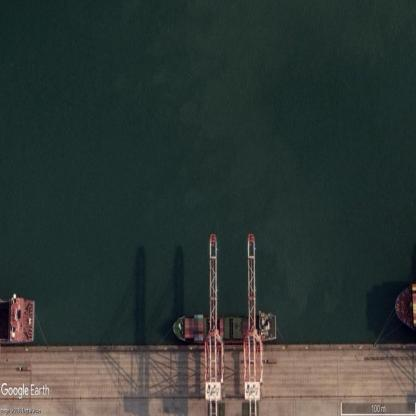ship: (173, 314, 278, 344)
